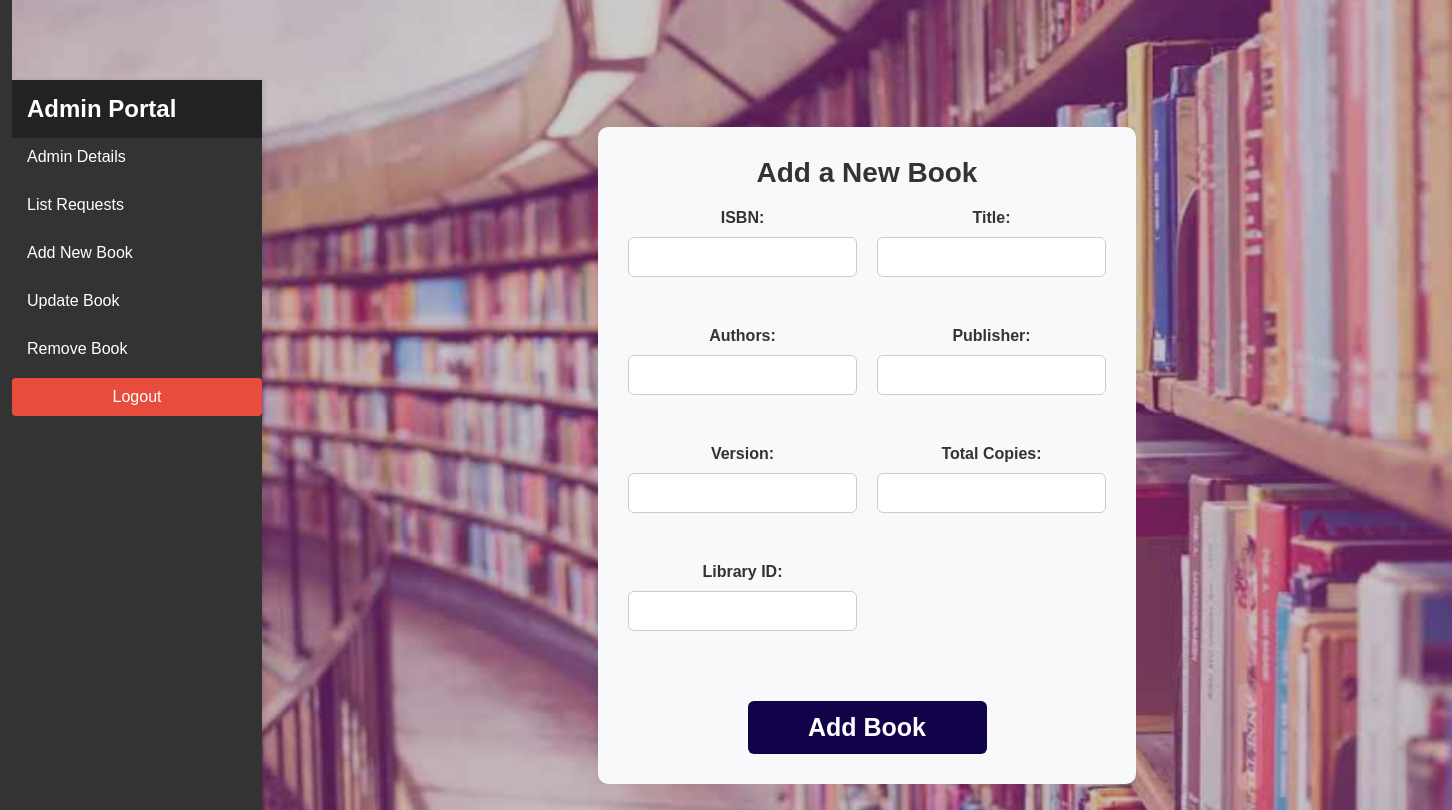
Test: handles API failure gracefully
Note: Fill out the form
In the field labelled "ISBN:": [742, 256] box [628,236,857,276], type "123456789"
In the field labelled "Title:": [992, 256] box [877,236,1106,276], type "React for Beginners"
In the field labelled "Authors:": [742, 374] box [628,354,857,394], type "John Doe"
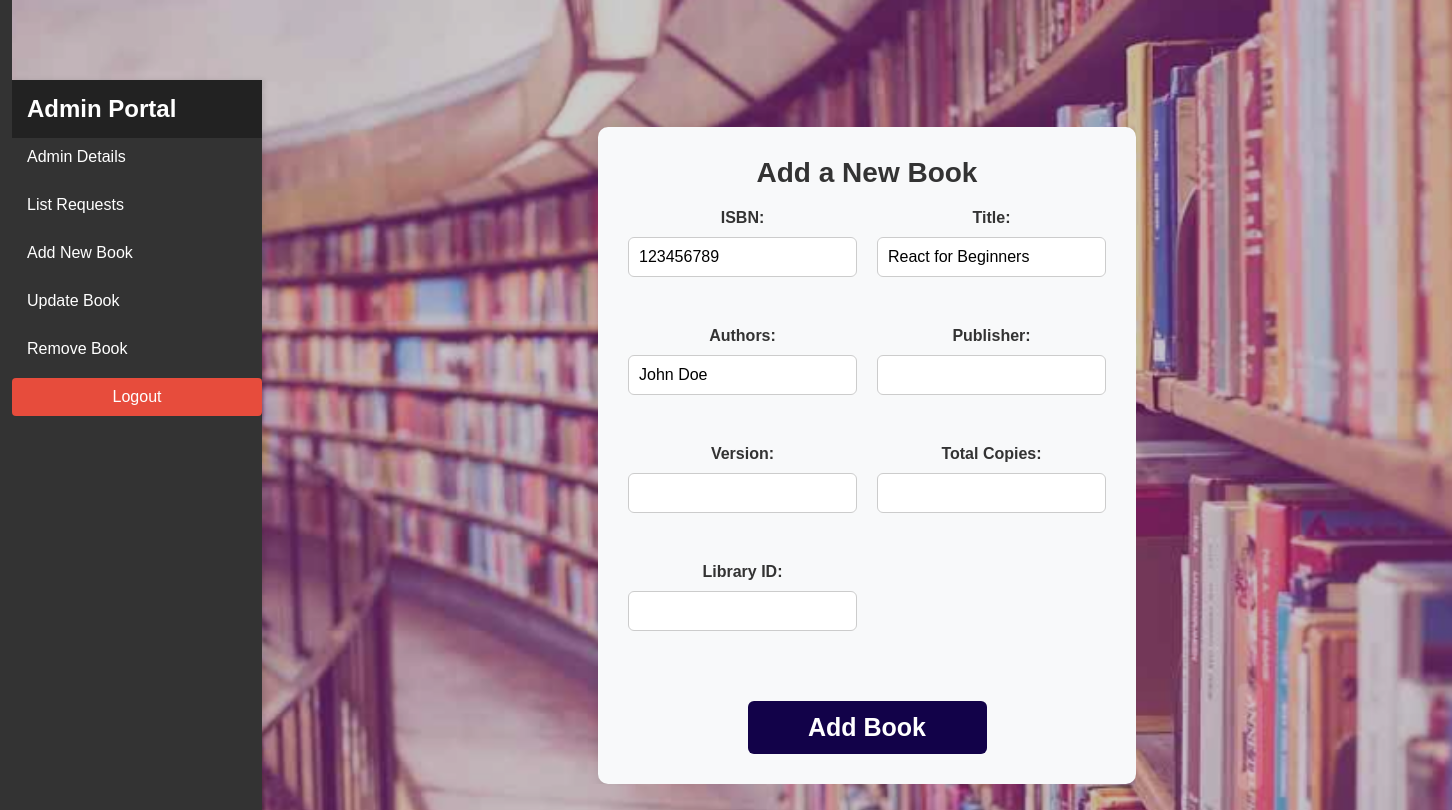
In the field labelled "Publisher:": [992, 374] box [877,354,1106,394], type "Tech Books"
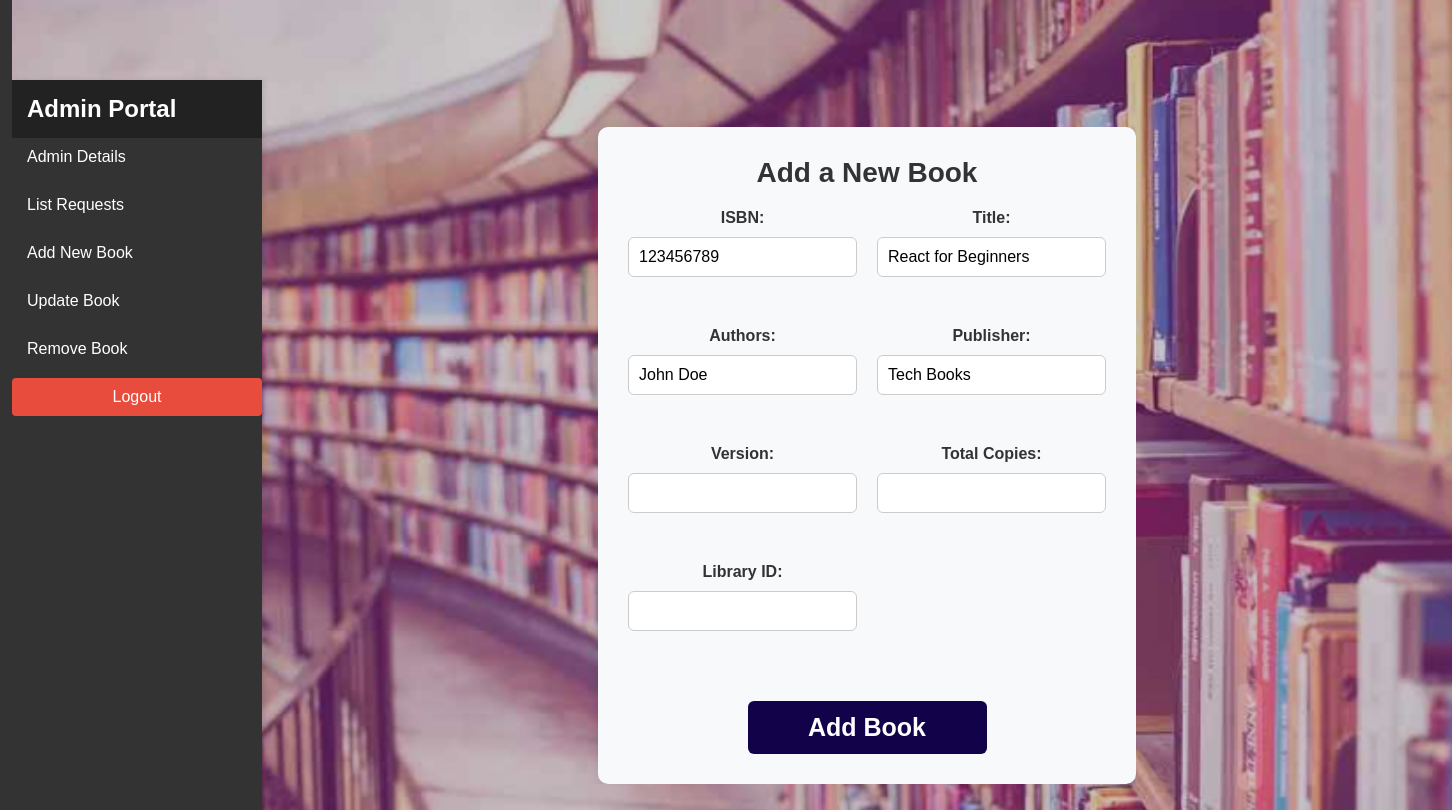
In the field labelled "Version:": [742, 492] box [628,472,857,512], type "1.0"
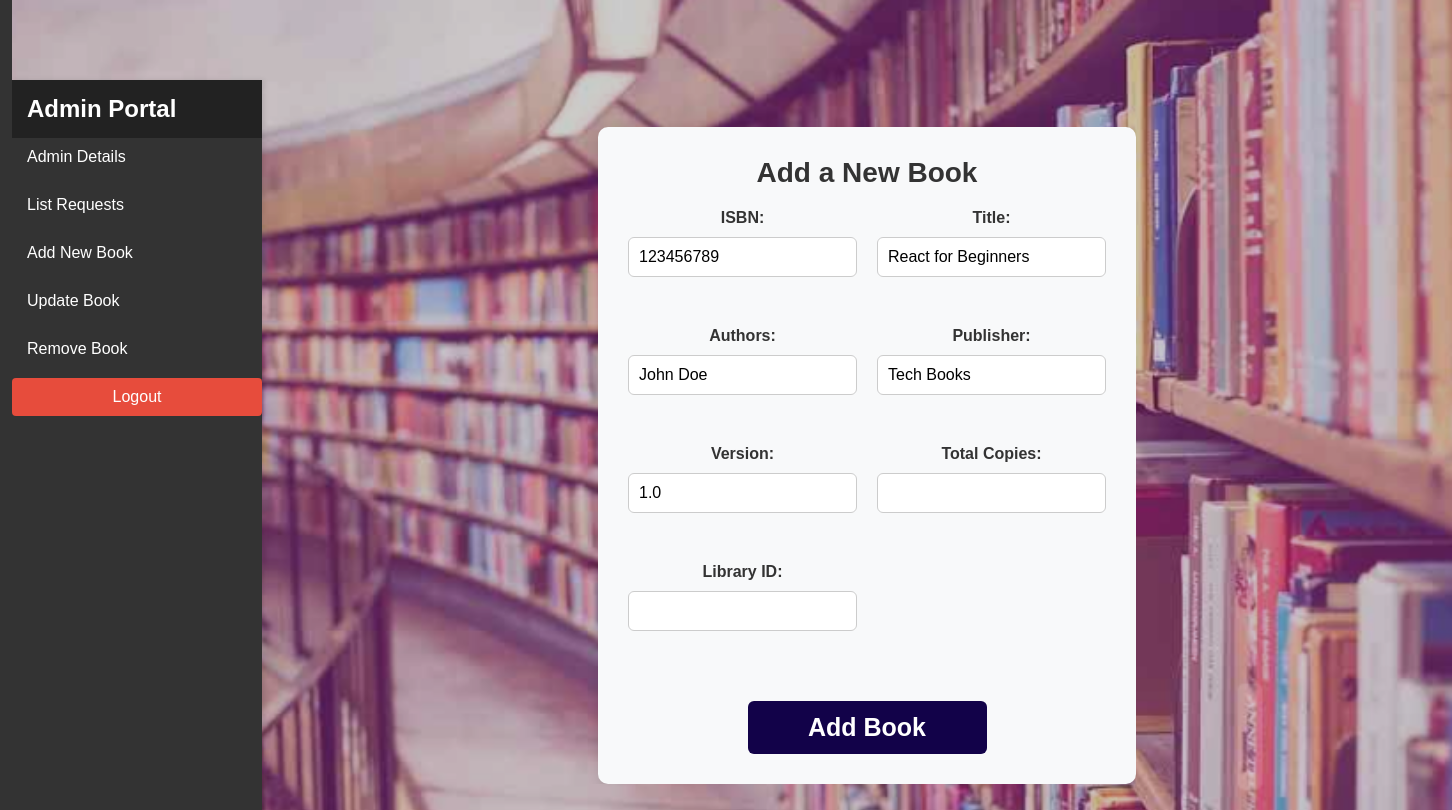
In the number field labelled "Total Copies:": [992, 492] box [877,472,1106,512], type "10"
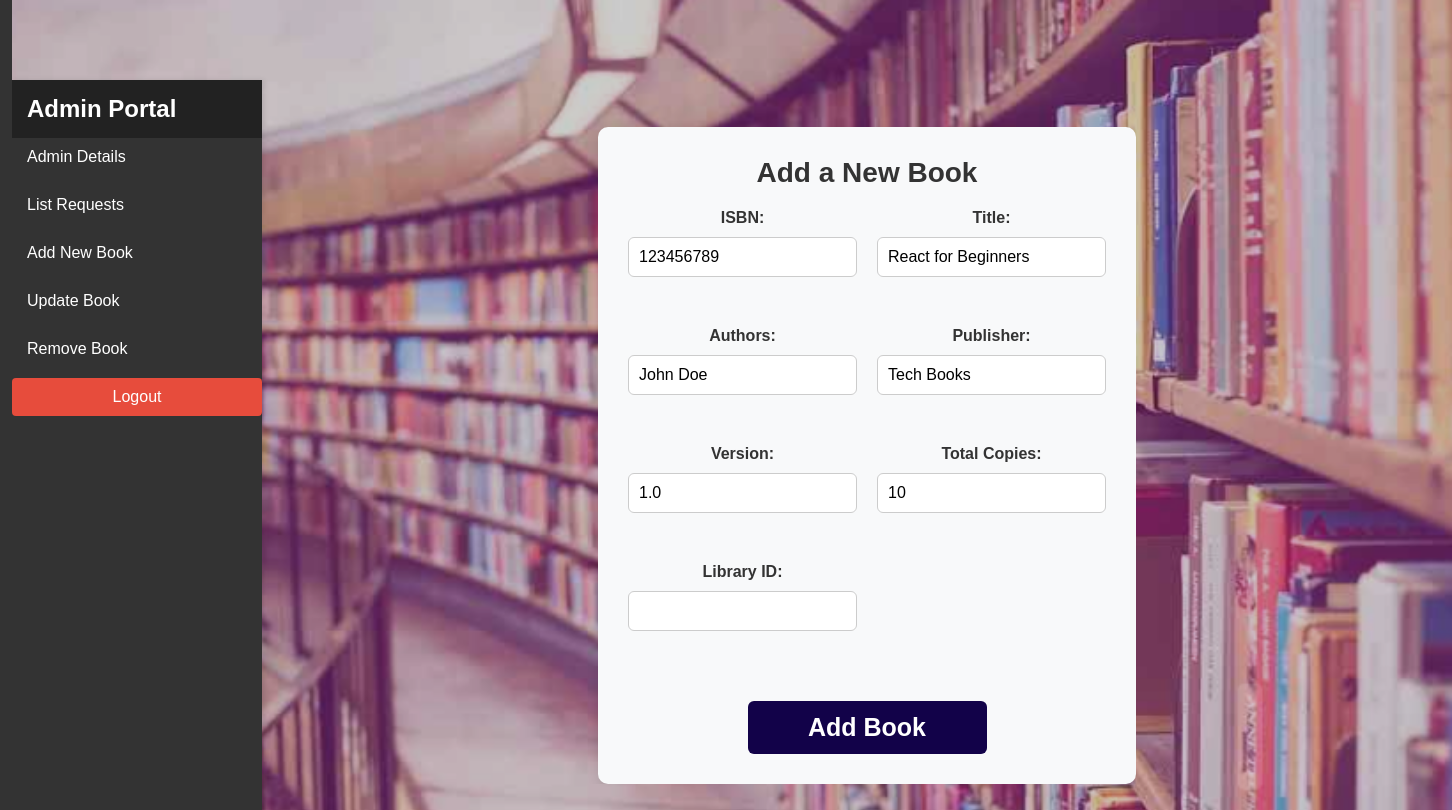
In the number field labelled "Library ID:": [742, 610] box [628,590,857,630], type "1"
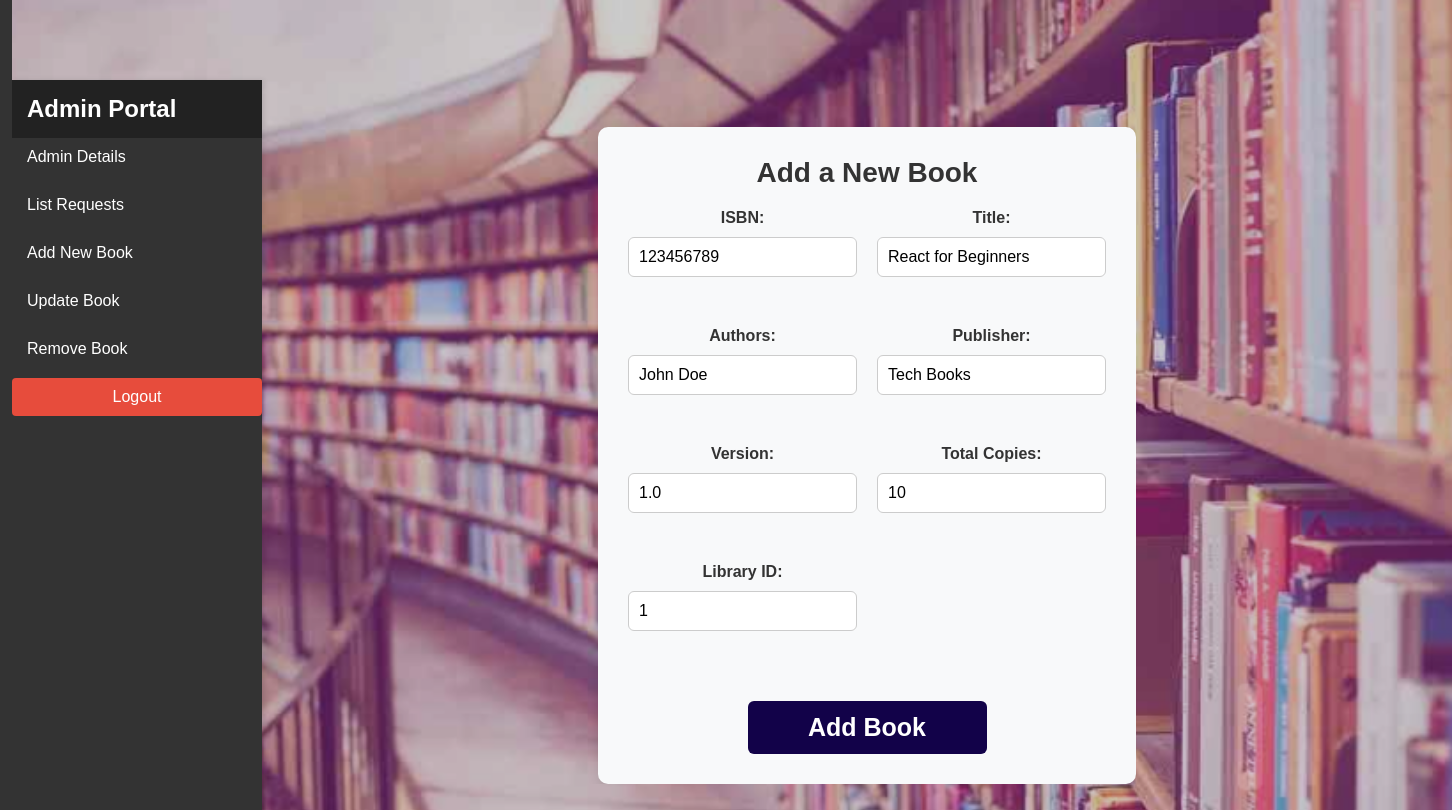
Note: Click the submit button
Click the button "Add Book": [867, 727] box [748,700,986,754]
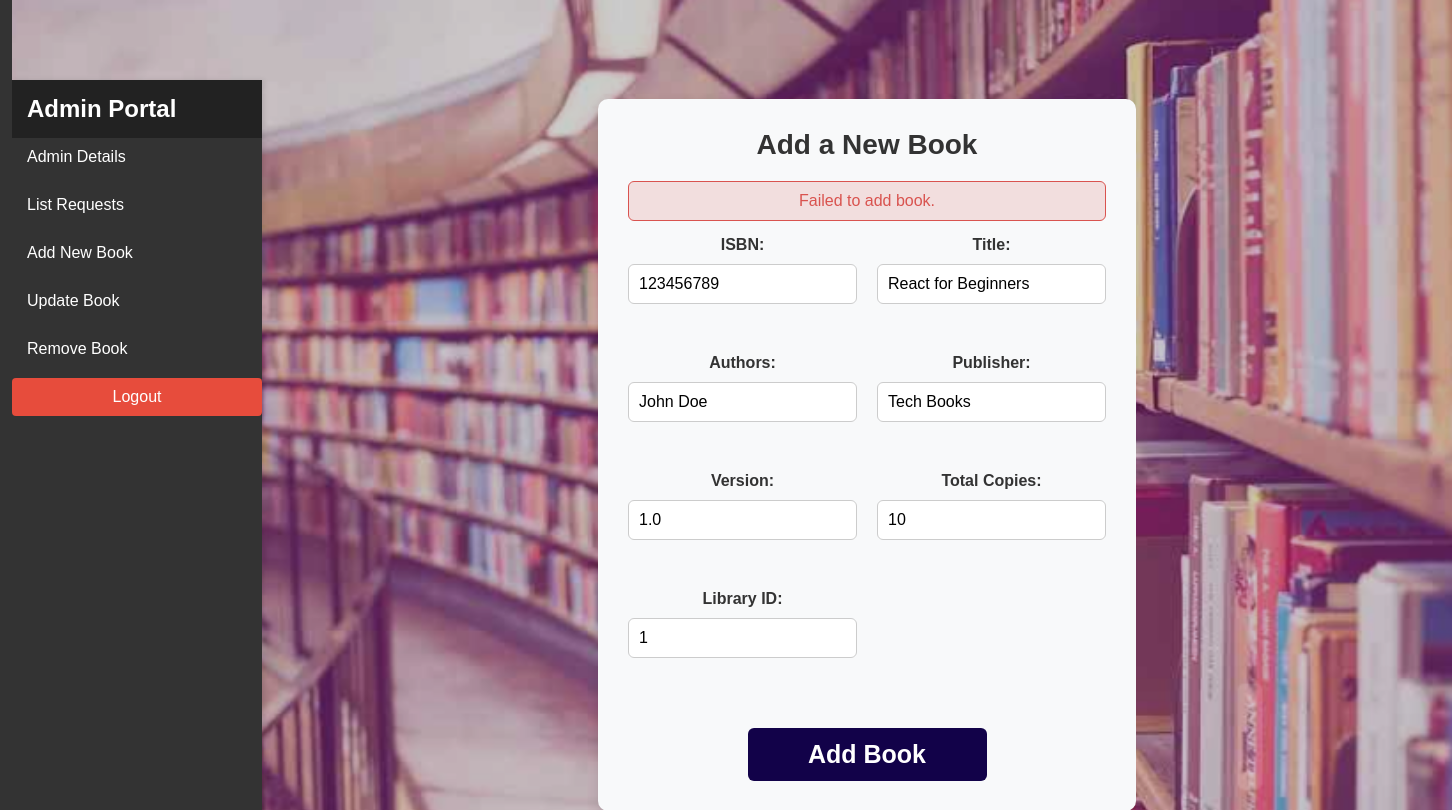
Expected: the text "Failed to add book." is shown, [628,181,1106,221]
